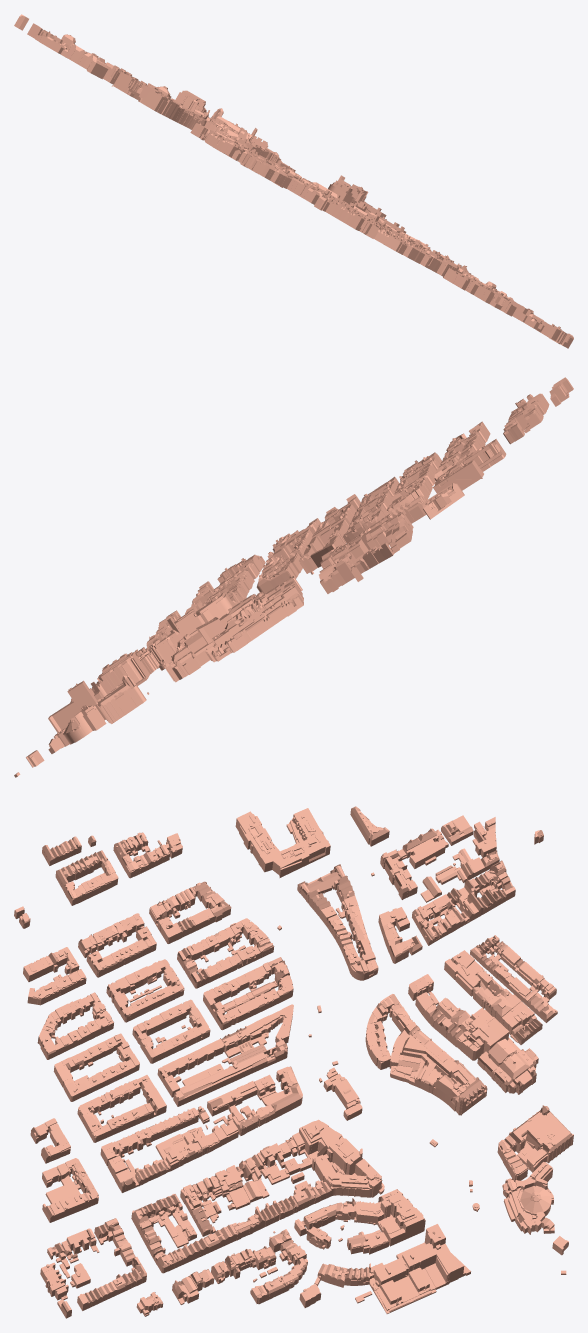
3 renders of one model, top to bottom at view 1: azimuth 30°, elevation 25°; view 2: azimuth 150°, elevation 25°; view 3: azimuth 270°, elevation 25°, orthographic. The views are drawn at different scales.
Bounding box in the file's own units: 1.77e+07 × 1.34e+07 × 2.09e+07.
